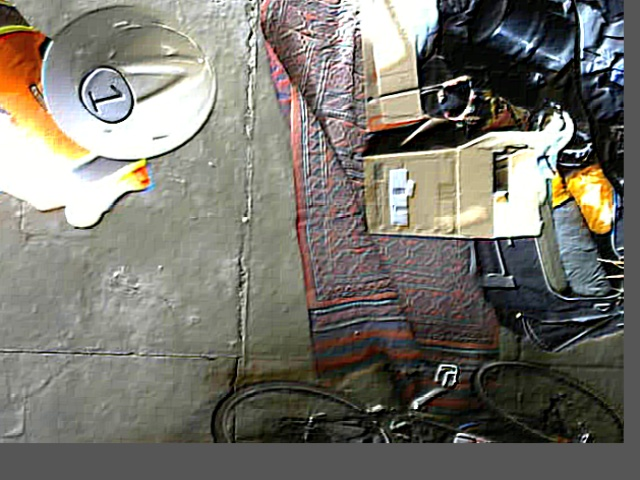one: (78, 67, 134, 127)
